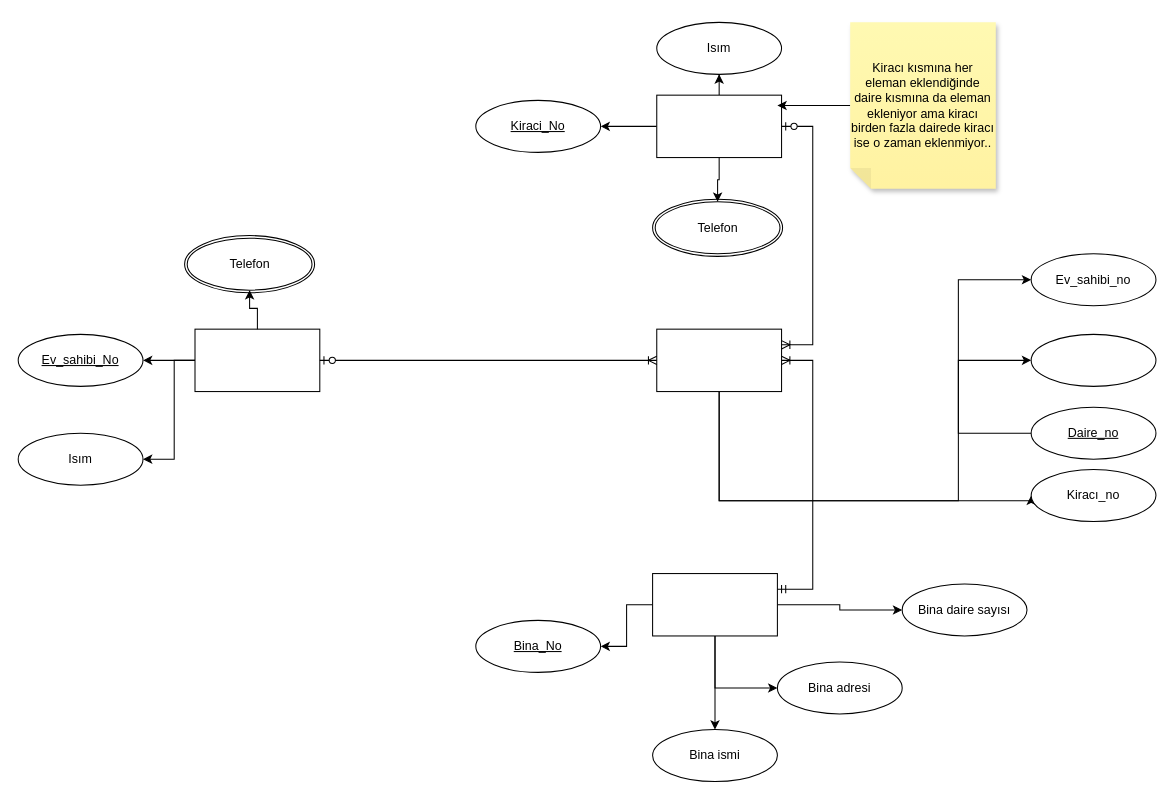
This 1174x800 diagram has some shape labels left out. The centre of each missing label's shape, as x and y in pixels:
"Binalar" goes at [714,604].
"Daireler" goes at [719,360].
"Ev Sahipleri" goes at [257,360].
"Kat_numarasi" goes at [1093,359].
"Kiracı" goes at [719,126].
